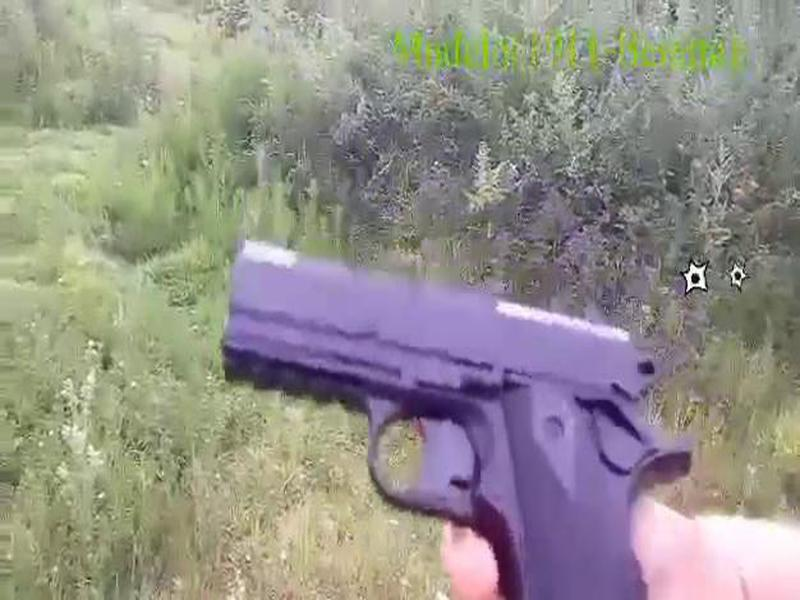Pistola: (187, 190, 701, 571)
